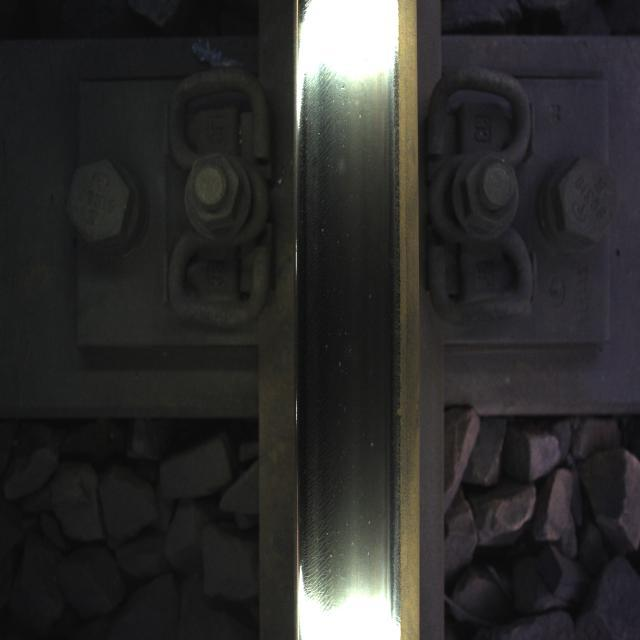break: (295, 42, 387, 580)
